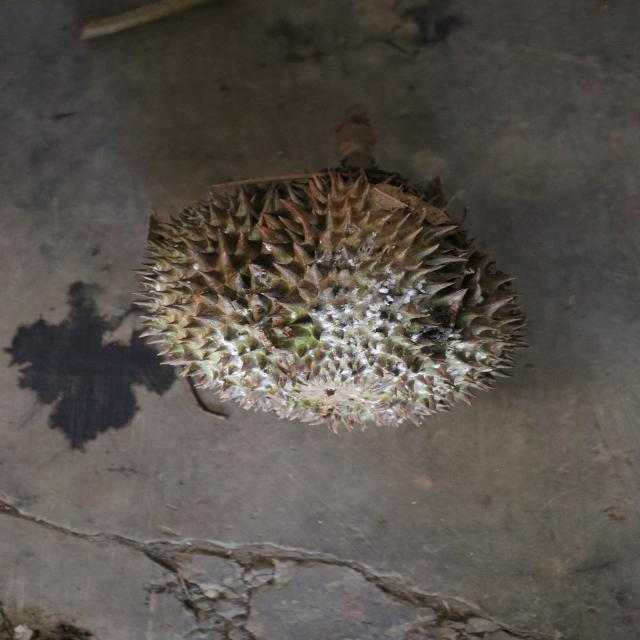defective: (133, 165, 524, 430)
